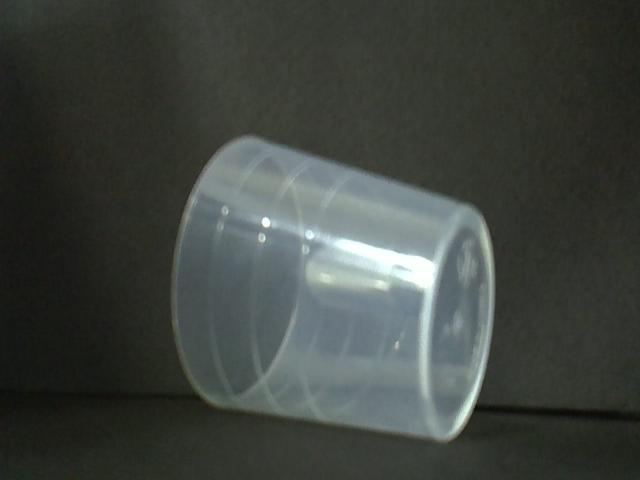cup: (162, 131, 498, 444)
